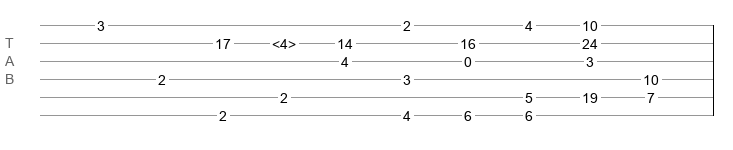0: (464, 54, 472, 64)
10: (582, 18, 598, 28), (643, 72, 659, 82)
14: (337, 36, 353, 46)
16: (460, 36, 476, 46)
17: (215, 36, 231, 46)
19: (582, 90, 598, 100)
2: (158, 72, 166, 82), (219, 108, 227, 118), (280, 90, 288, 100), (403, 18, 411, 28)
24: (582, 36, 598, 46)
3: (97, 18, 105, 28), (403, 72, 411, 82), (586, 54, 594, 64)
4: (341, 54, 349, 64), (403, 108, 411, 118), (525, 18, 533, 28)
5: (525, 90, 533, 100)
6: (464, 108, 472, 118), (525, 108, 533, 118)
7: (647, 90, 655, 100)
harmonic: (272, 36, 296, 46)
